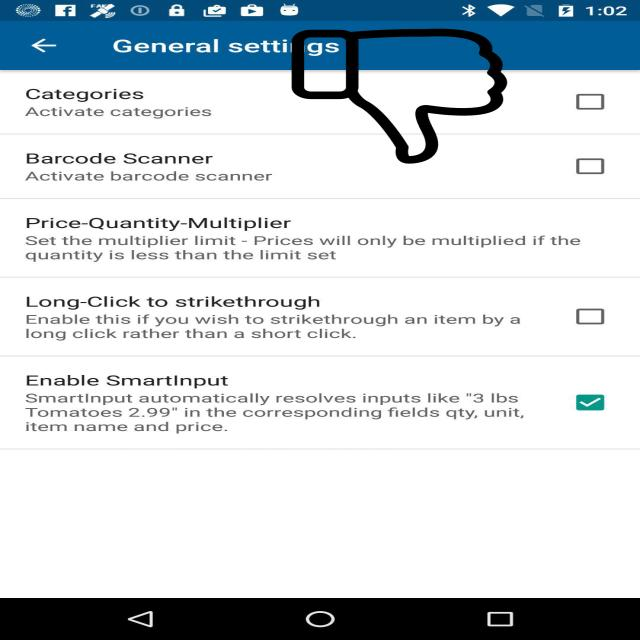obstruction: (289, 28, 510, 164)
